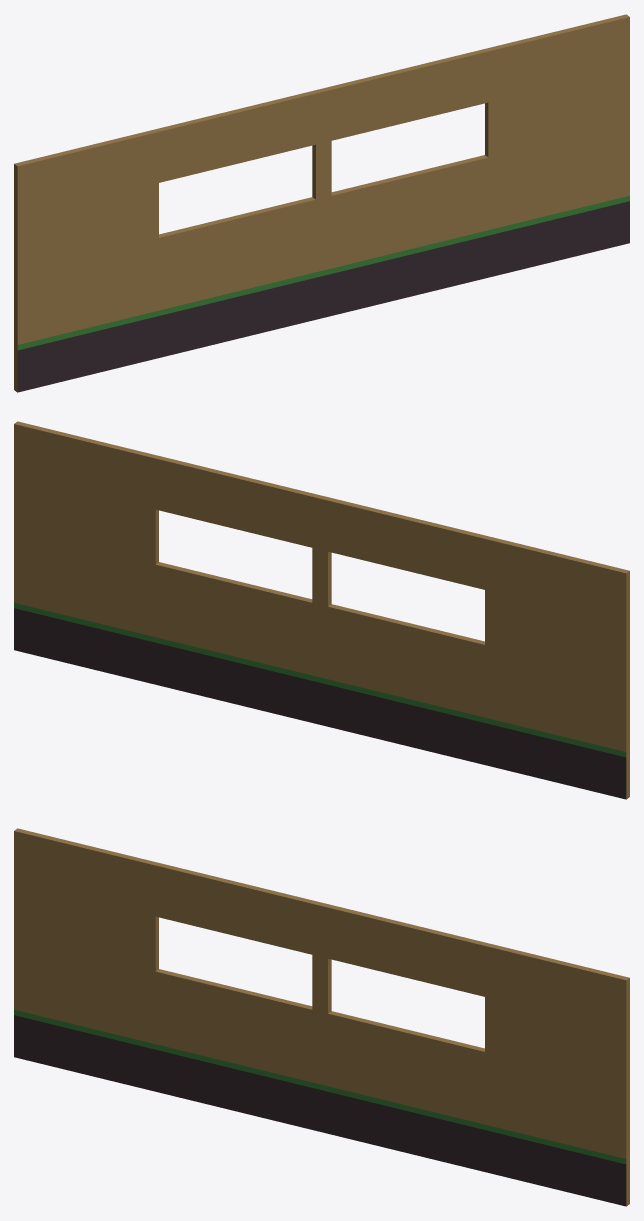
The model's file is 1_wall_001.fbx.
3 renders of one model, top to bottom at view 1: azimuth 30°, elevation 25°; view 2: azimuth 150°, elevation 25°; view 3: azimuth 330°, elevation 25°, orthographic.
Parts seen in each view (by area): view 1: wall_001; view 2: wall_001; view 3: wall_001.
Part boxes in pixels (x1,y1,x2,y2): wall_001: (14, 14, 629, 392); wall_001: (14, 421, 629, 799); wall_001: (14, 828, 629, 1206).
Size of the model in its own units: 4461 by 1575 by 45.3.
